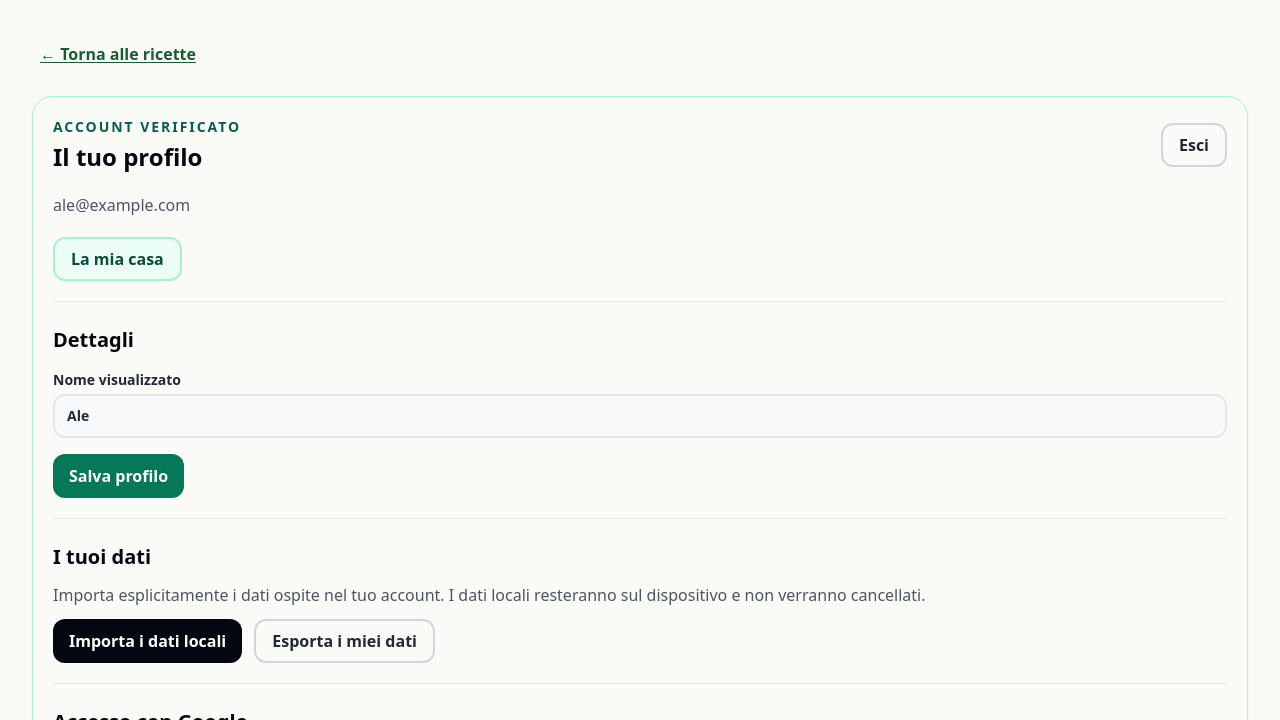
it: ProfilePage › requires explicit confirmation before importing local data
Expected: the heading "Il tuo profilo" is shown, [53,140,202,173]
Click the button "Importa i dati locali" at (148, 641), box [53,619,242,663]
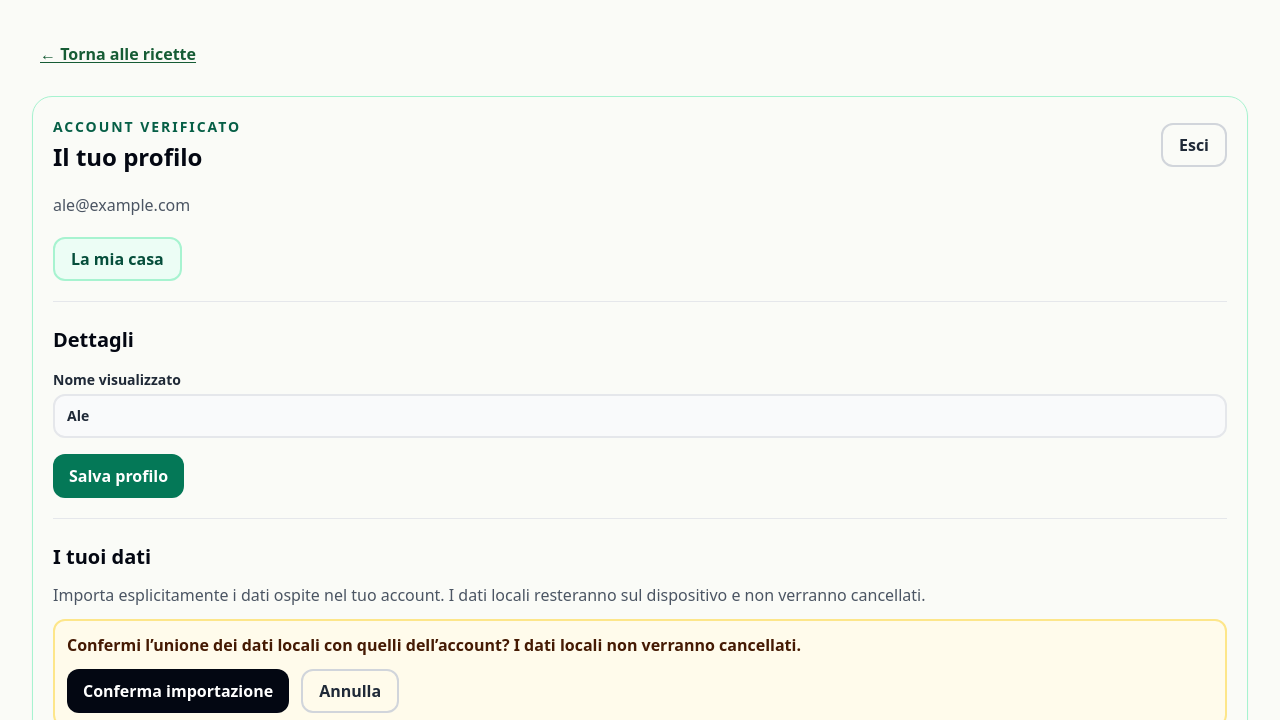
Expected: the button "Conferma importazione" is shown, [67,669,289,713]
